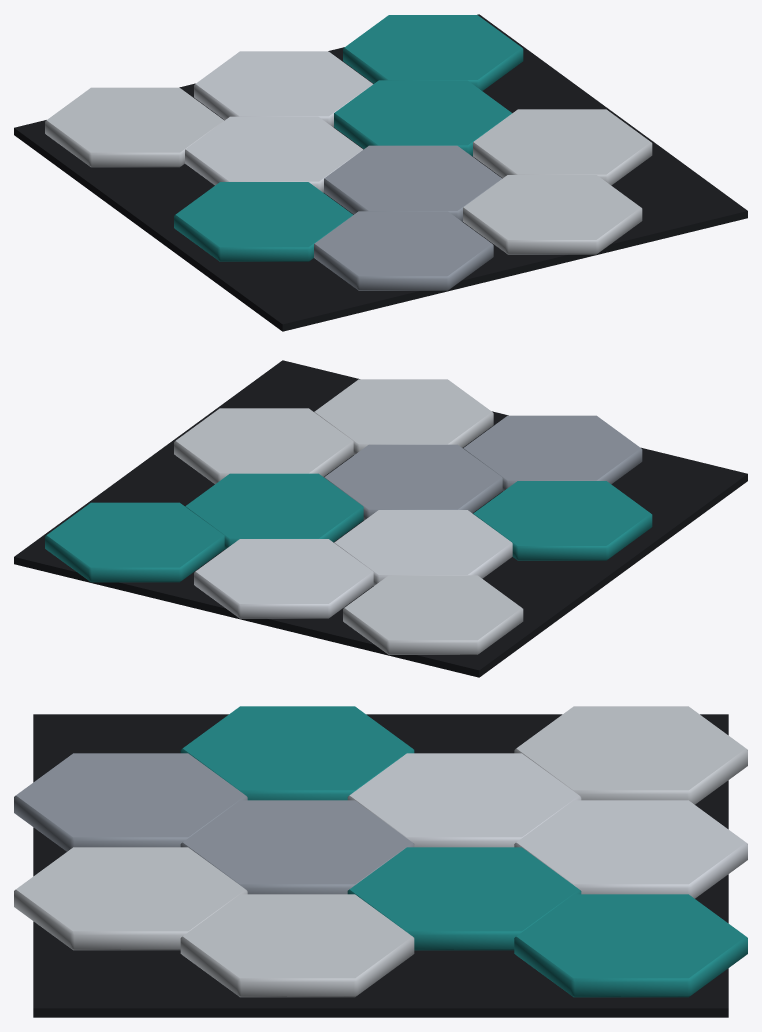
File: floorpanel_hex_tile_1x1.glb
3 views of the same model, one above another, from view 1: azimuth 30°, elevation 25°; view 2: azimuth 150°, elevation 25°; view 3: azimuth 270°, elevation 25° (orthographic). The views are drawn at different scales.
Parts seen in each view (by area): view 1: floorpanel_hex_tile_1x1; view 2: floorpanel_hex_tile_1x1; view 3: floorpanel_hex_tile_1x1.
Part boxes in pixels (x1,y1,x2,y2): floorpanel_hex_tile_1x1: (14,14,747,331); floorpanel_hex_tile_1x1: (14,360,747,677); floorpanel_hex_tile_1x1: (14,706,747,1017).
Size of the model in its own units: 1 by 0.045 by 1.06.
